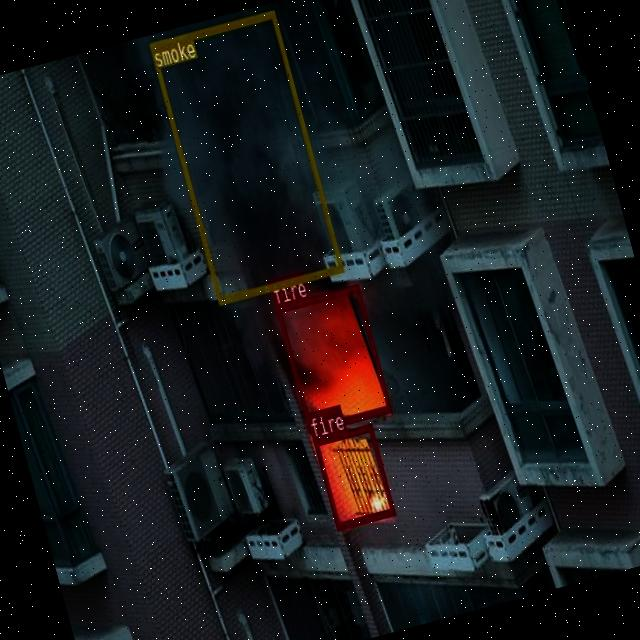fire: (274, 282, 391, 432), (312, 422, 394, 528)
smoke: (148, 9, 342, 302)
